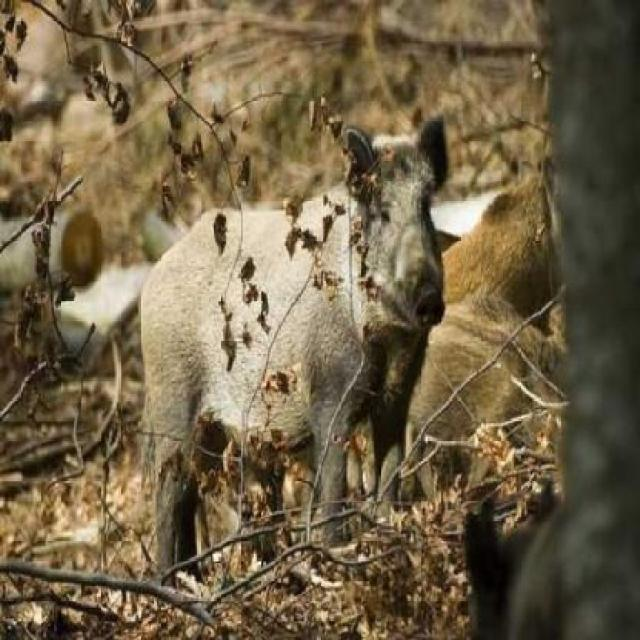pig: (108, 115, 452, 608)
